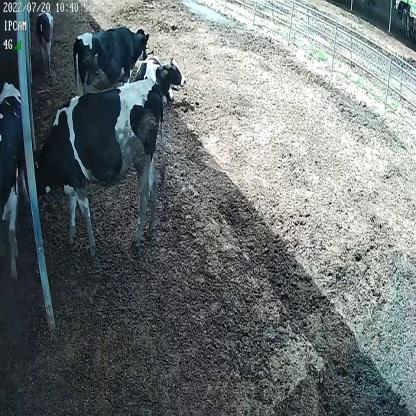cow: (26, 83, 167, 252), (69, 22, 152, 96), (137, 49, 187, 107), (34, 4, 54, 77)
